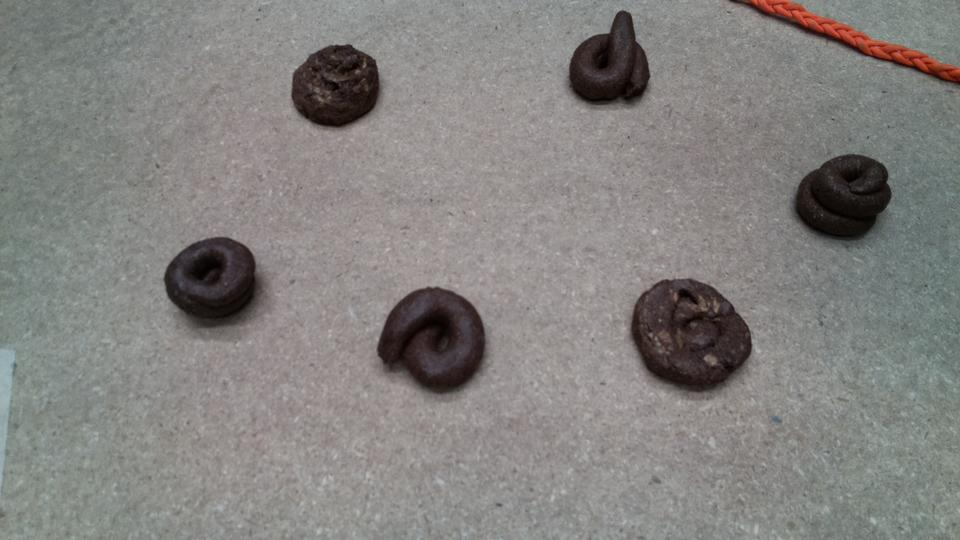poop: (737, 1, 957, 92), (623, 271, 768, 397), (377, 280, 493, 394), (280, 30, 387, 130), (791, 147, 896, 245), (155, 230, 266, 322), (566, 12, 661, 106)
rope: (750, 1, 956, 88)
